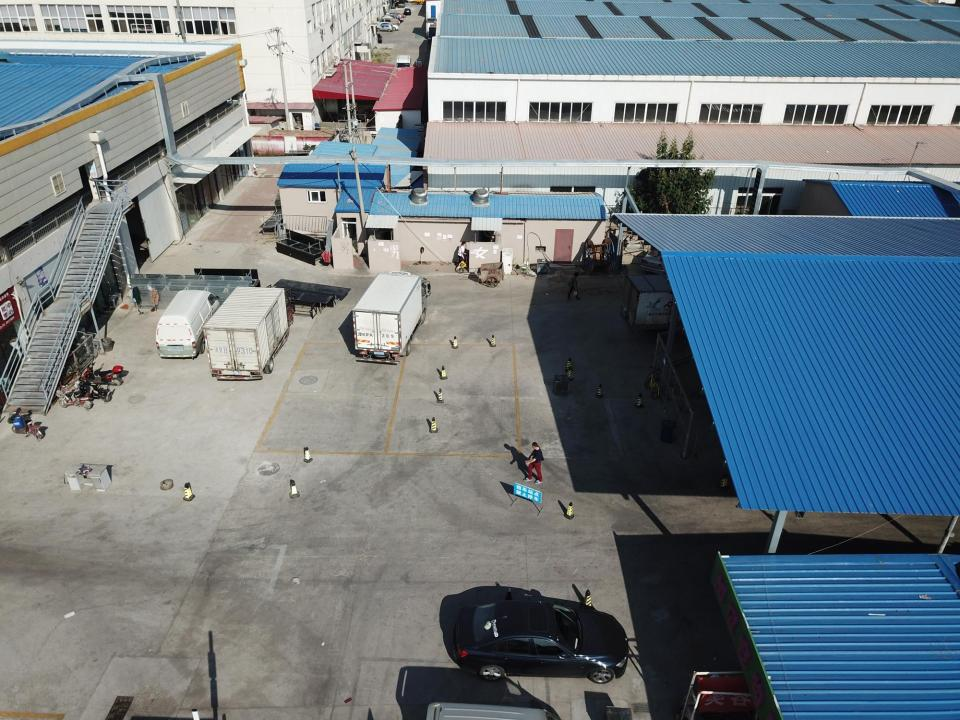car: (451, 596, 636, 681), (373, 20, 402, 33), (382, 14, 404, 24), (381, 16, 399, 26), (383, 12, 404, 19), (404, 8, 411, 14)
van: (204, 286, 287, 382), (350, 272, 430, 360), (624, 274, 706, 334), (154, 287, 218, 361), (392, 54, 412, 76)
